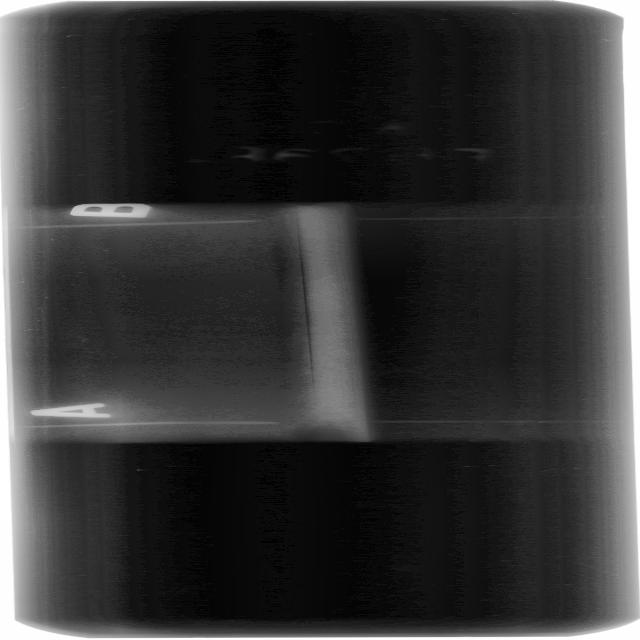LOP: (294, 238, 310, 365)
